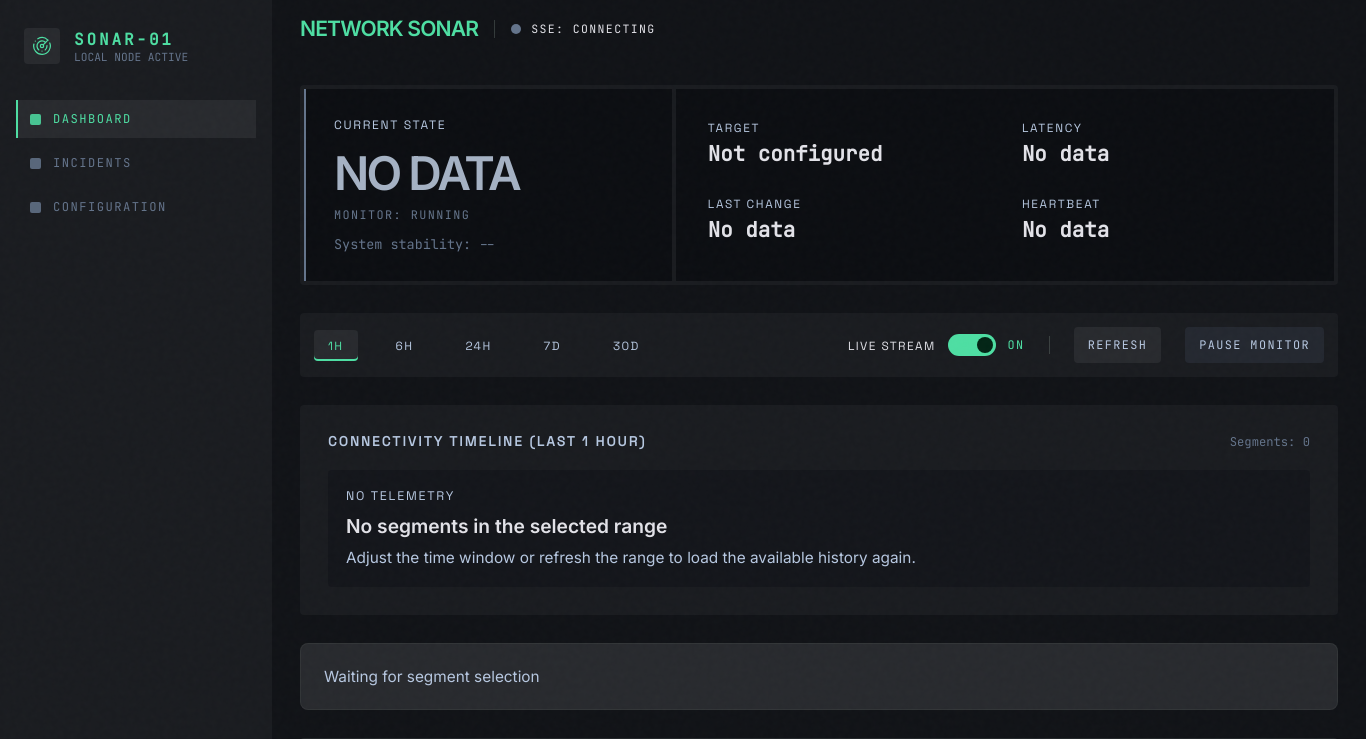
Scenario: incidents page › navigates to incidents and shows grouped outage details
The image size is (1366, 739).
Check: the text "NETWORK SONAR" is shown, box top-left (300, 16), bottom-right (478, 41)
Check: the text "Dashboard" is shown, box top-left (53, 111), bottom-right (132, 127)
What coordinates should you click on to do the following:
click the link "Incidents"
I would click on:
 (81, 163)
Its box is top-left (30, 155), bottom-right (132, 171).
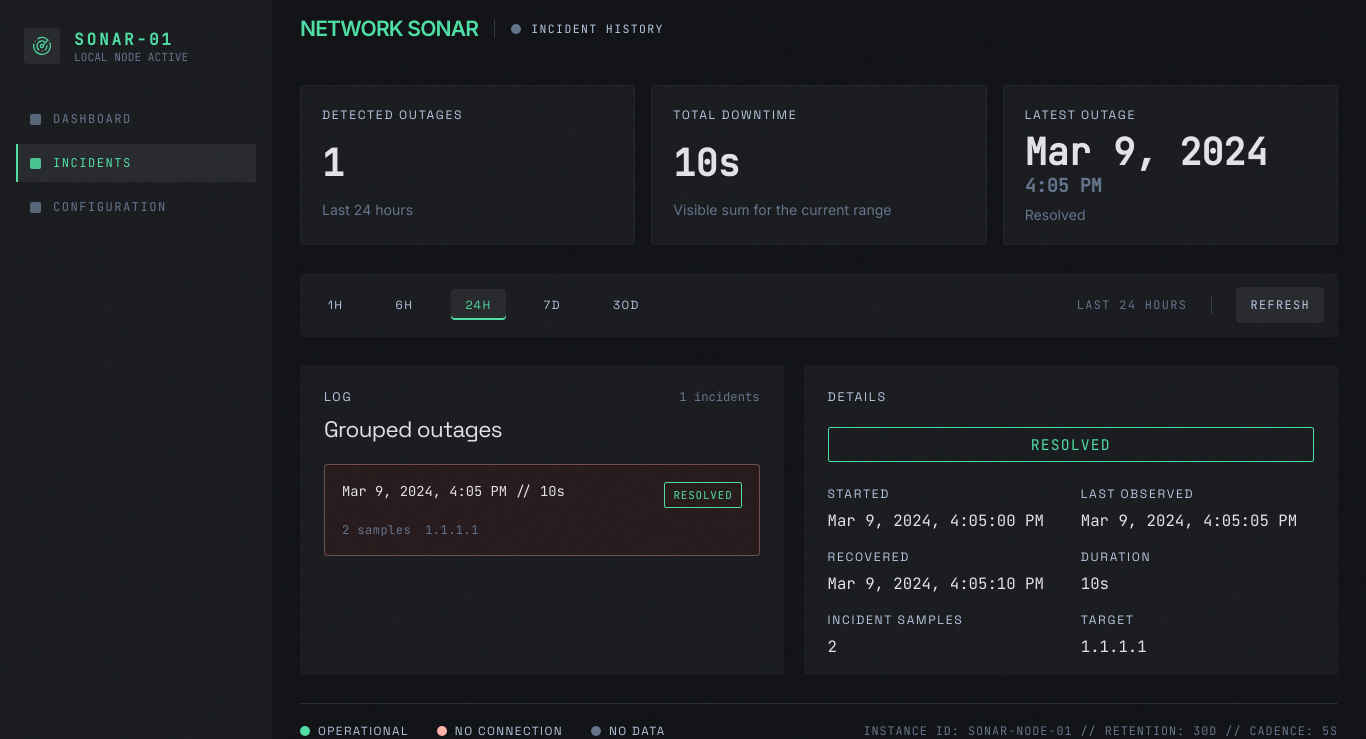
Check: the heading "Grouped outages" is shown, box top-left (324, 415), bottom-right (502, 444)
Check: the text "Details" is shown, box top-left (828, 389), bottom-right (887, 405)
Check: the text "Incident samples" is shown, box top-left (828, 612), bottom-right (963, 628)
